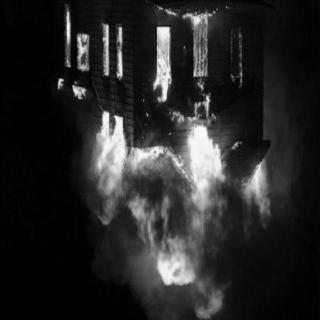Fire: (89, 13, 273, 313), (59, 6, 92, 112)
